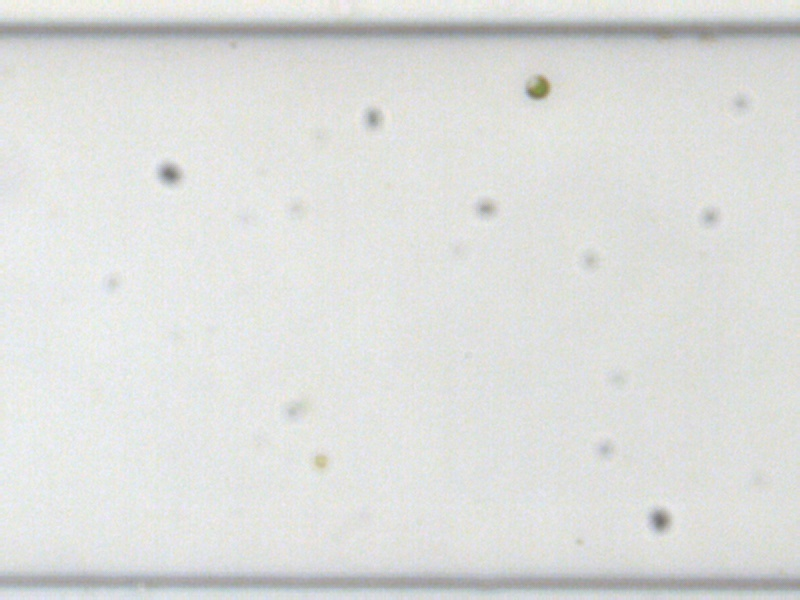Chlorella: (524, 74, 548, 99), (312, 454, 327, 467)
